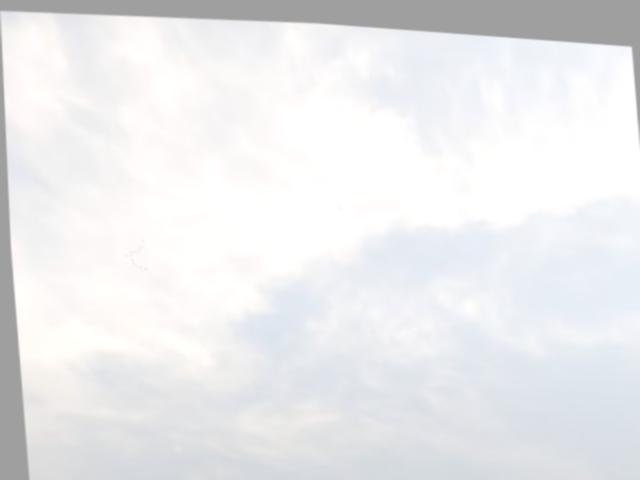iha: (335, 199, 341, 207)
